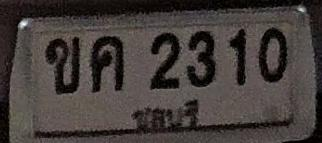0: (258, 27, 287, 82)
1: (229, 28, 246, 85)
2: (150, 32, 179, 88)
3: (187, 30, 216, 86)
A02: (45, 36, 80, 94)
A04: (91, 35, 124, 91)
CBI: (122, 97, 206, 130)
